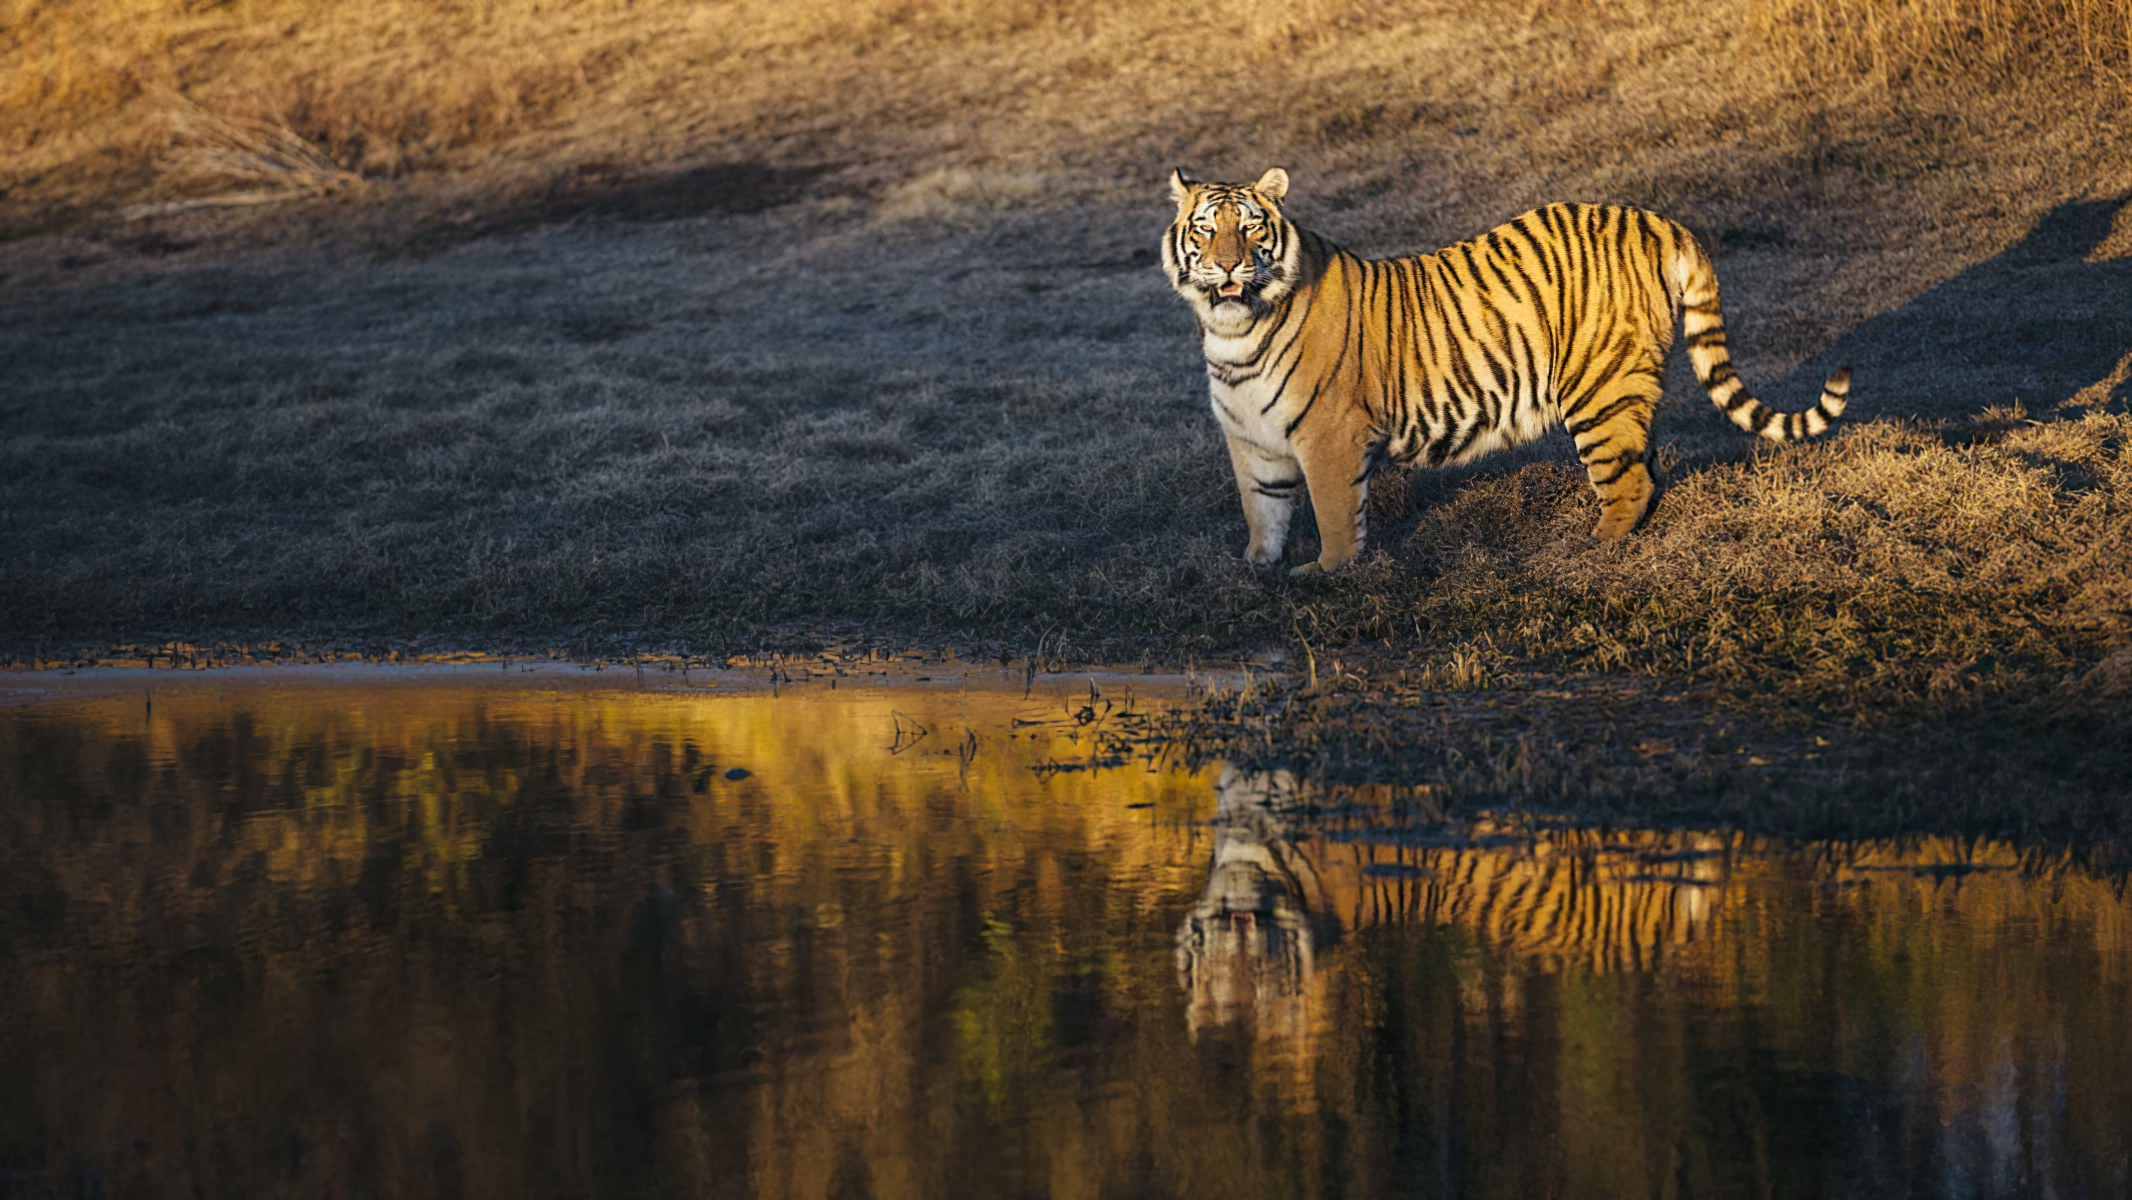tiger: (1127, 116, 1923, 571)
